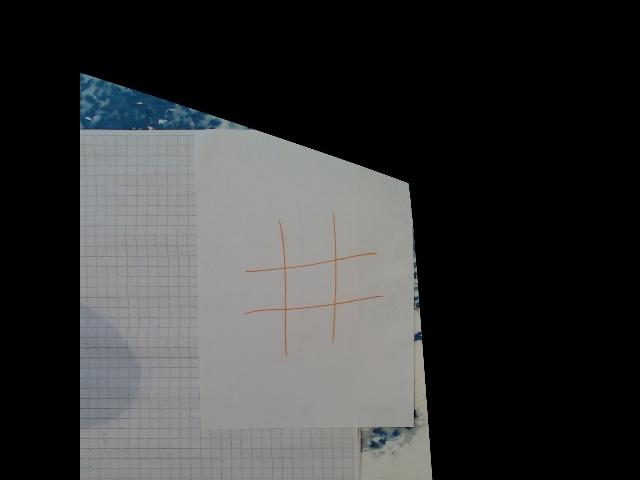grid: (238, 210, 384, 354)
